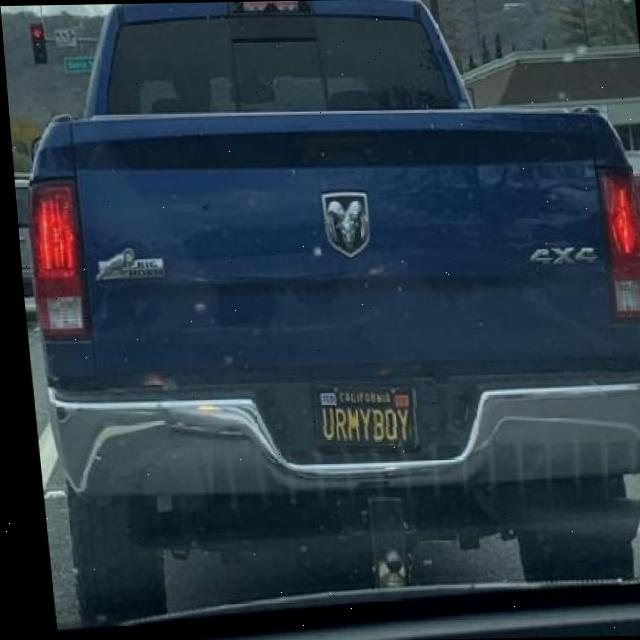LicensePlate: (305, 380, 411, 452)
